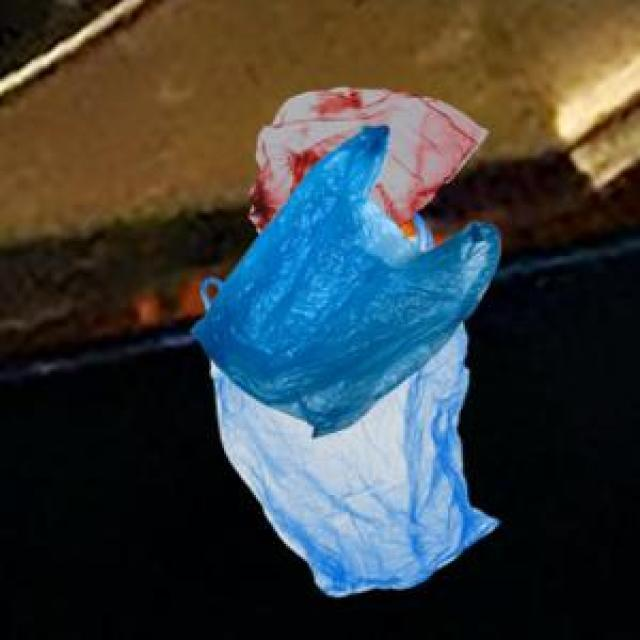waste: (195, 89, 500, 594)
